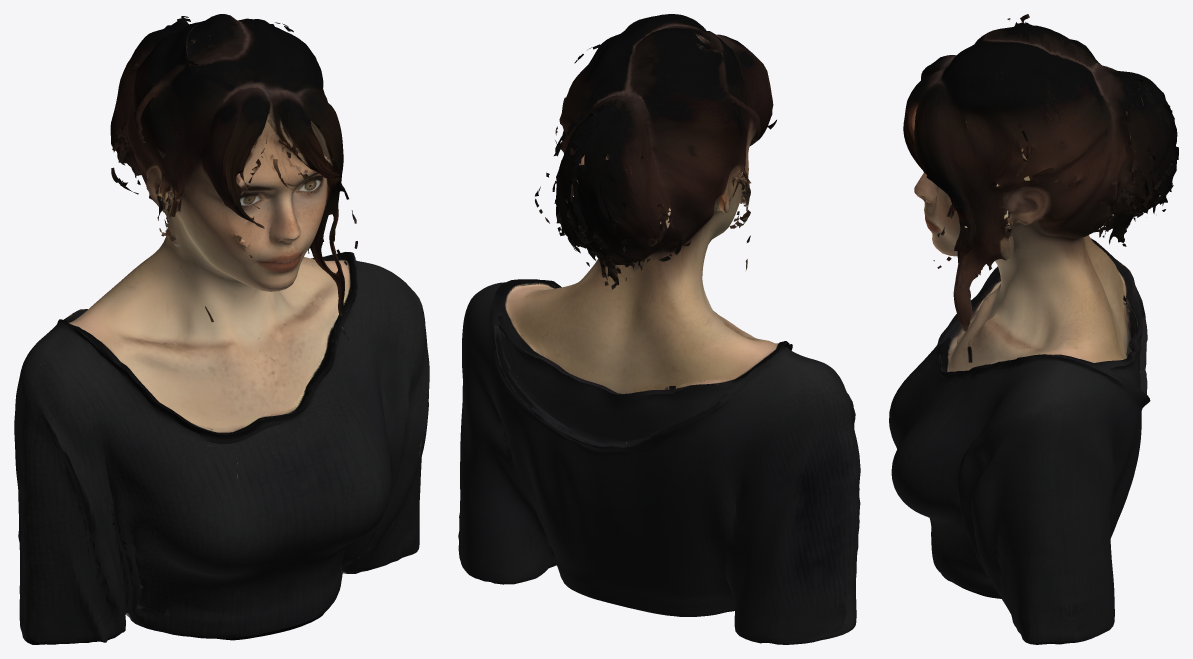
File: portrait.glb
3 renders of one model, left to right at view 1: azimuth 30°, elevation 25°; view 2: azimuth 150°, elevation 25°; view 3: azimuth 270°, elevation 25°, orthographic. The views are drawn at different scales.
Visible parts, largest first — view 1: Mesh_0; view 2: Mesh_0; view 3: Mesh_0.
Part boxes in pixels (x1,y1,x2,y2): Mesh_0: [14, 14, 429, 644]; Mesh_0: [458, 14, 860, 644]; Mesh_0: [889, 14, 1178, 644].
Bounding box in the file's own units: 1.37 × 1.91 × 0.9416.
Materials: 1 (1 with a texture image).
